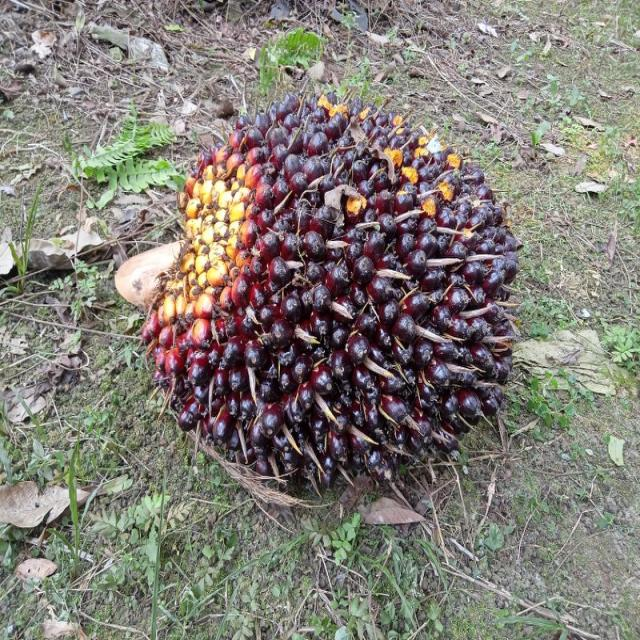fraksi 00: (124, 55, 574, 548)
